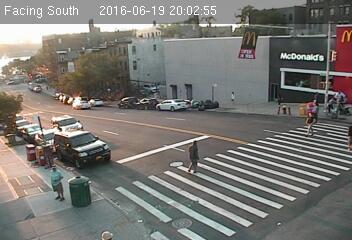neg: (13, 71, 37, 102), (257, 146, 277, 173), (235, 23, 255, 49), (88, 49, 107, 75), (80, 8, 99, 33), (289, 144, 307, 168), (180, 85, 198, 108), (128, 165, 145, 187), (211, 204, 228, 226), (187, 9, 203, 30), (147, 75, 163, 95), (130, 12, 145, 32), (103, 124, 117, 143), (292, 188, 306, 206), (154, 198, 166, 215), (322, 22, 334, 39), (228, 121, 240, 137), (139, 112, 147, 124)
pos: (39, 166, 68, 205), (178, 137, 206, 174), (299, 110, 319, 138), (305, 97, 321, 119), (320, 93, 336, 114), (333, 89, 346, 106), (308, 90, 321, 107), (228, 89, 238, 103), (275, 94, 285, 107)
